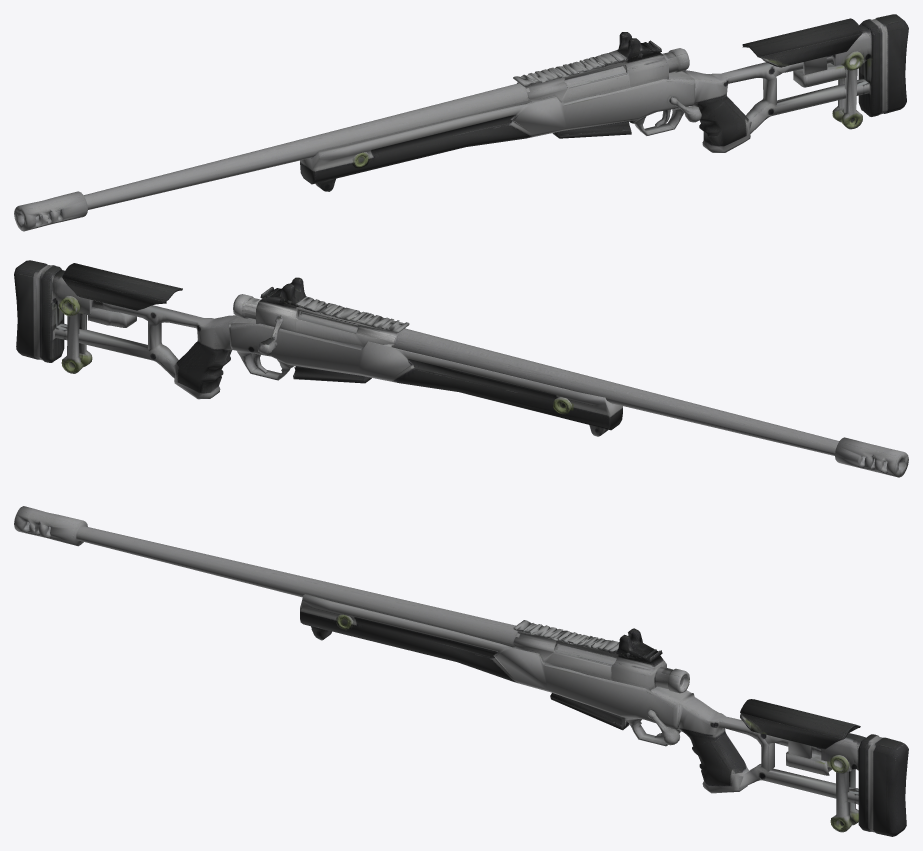
File: sr_obsidian.glb
3 renders of one model, top to bottom at view 1: azimuth 30°, elevation 25°; view 2: azimuth 150°, elevation 25°; view 3: azimuth 330°, elevation 25°, orthographic.
Bounding box in the file's own units: 0.957 × 0.146 × 0.0698.
Materials: 1 (1 with a texture image).
